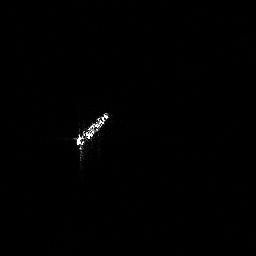ship: (70, 108, 114, 166)
